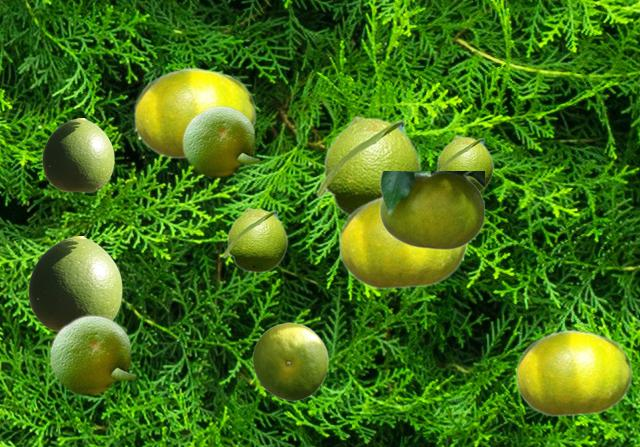dalandan: (338, 196, 466, 289), (133, 67, 255, 158), (315, 115, 421, 216), (515, 329, 631, 416), (28, 236, 121, 331), (379, 171, 483, 249), (48, 313, 137, 395), (252, 322, 327, 400), (181, 104, 260, 177), (42, 118, 113, 191), (222, 207, 287, 272), (436, 135, 493, 192)
